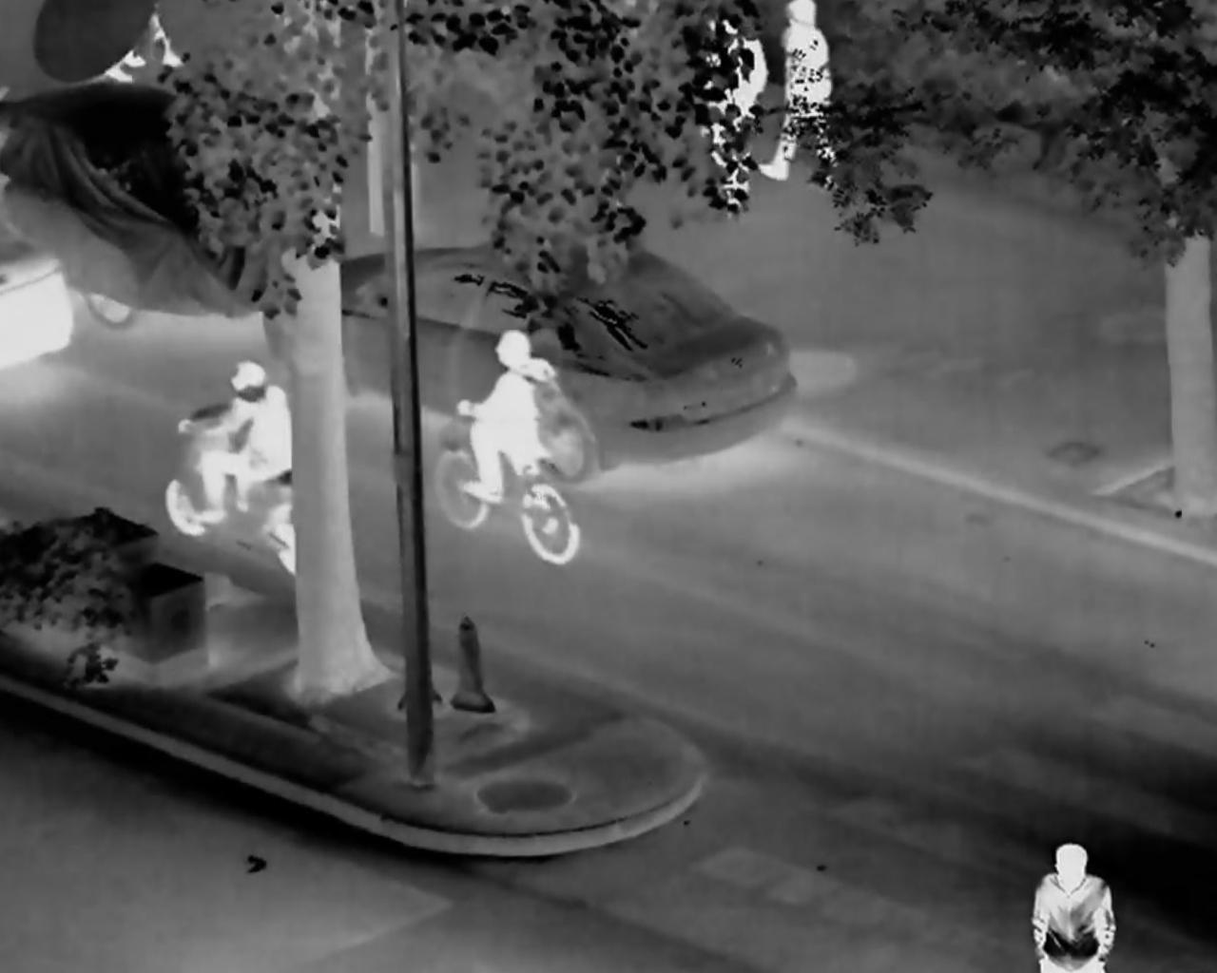person: (462, 332, 560, 508), (687, 7, 771, 209), (195, 363, 298, 526), (1030, 839, 1114, 973)
